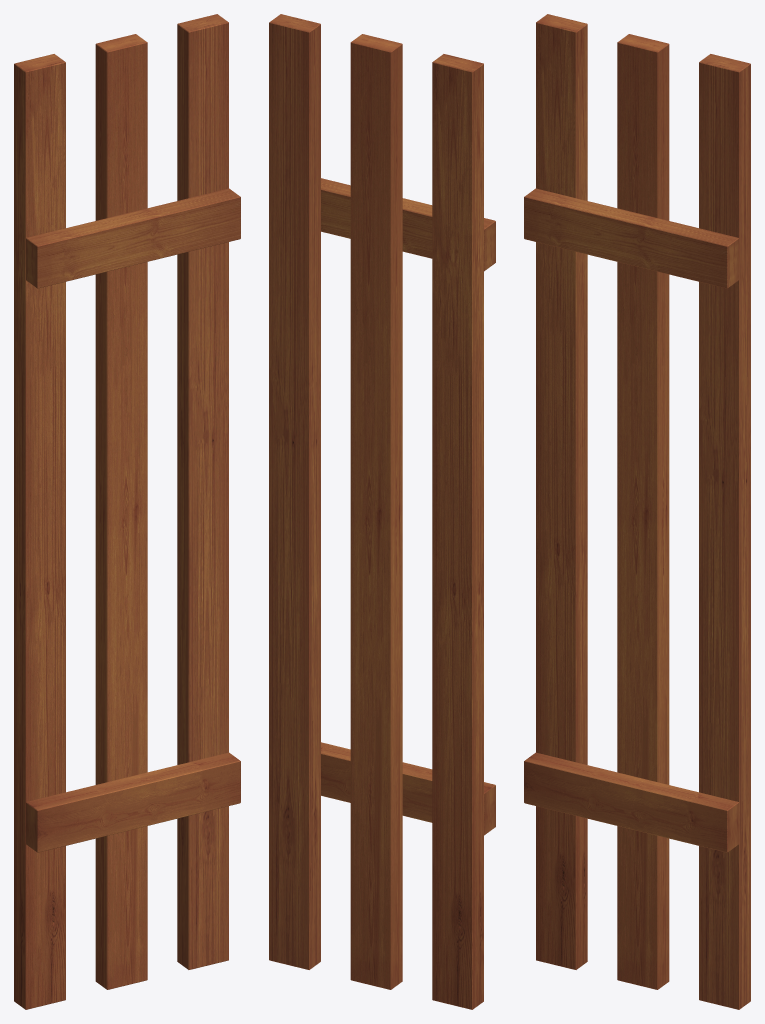
Rendered from ds_left.obj.
3 views of the same model, side by side, from view 1: azimuth 30°, elevation 25°; view 2: azimuth 150°, elevation 25°; view 3: azimuth 330°, elevation 25° (orthographic).
Visible parts, largest first — view 1: shutter001, shutter, shutter002, shutter004, shutter003; view 2: shutter, shutter002, shutter001, shutter003, shutter004; view 3: shutter002, shutter, shutter001, shutter004, shutter003.
Part boxes in pixels (x1,y1,x2,y2): shutter001: (14,54,65,1009); shutter: (95,34,147,989); shutter002: (177,14,228,969); shutter004: (26,188,240,288); shutter003: (26,752,240,852); shutter: (350,34,402,989); shutter002: (269,14,320,969); shutter001: (432,54,483,1009); shutter003: (321,742,495,835); shutter004: (321,178,495,271); shutter002: (699,54,750,1009); shutter: (617,34,669,989); shutter001: (536,14,587,969); shutter004: (524,188,738,288); shutter003: (524,752,738,852).
Size of the model in its own units: 7.5 by 33 by 1.5.
5 materials, 5 textured.
